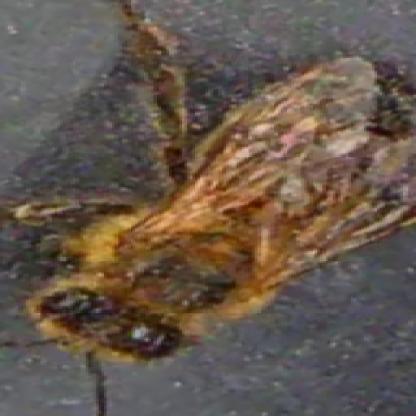bee: (38, 66, 416, 361)
